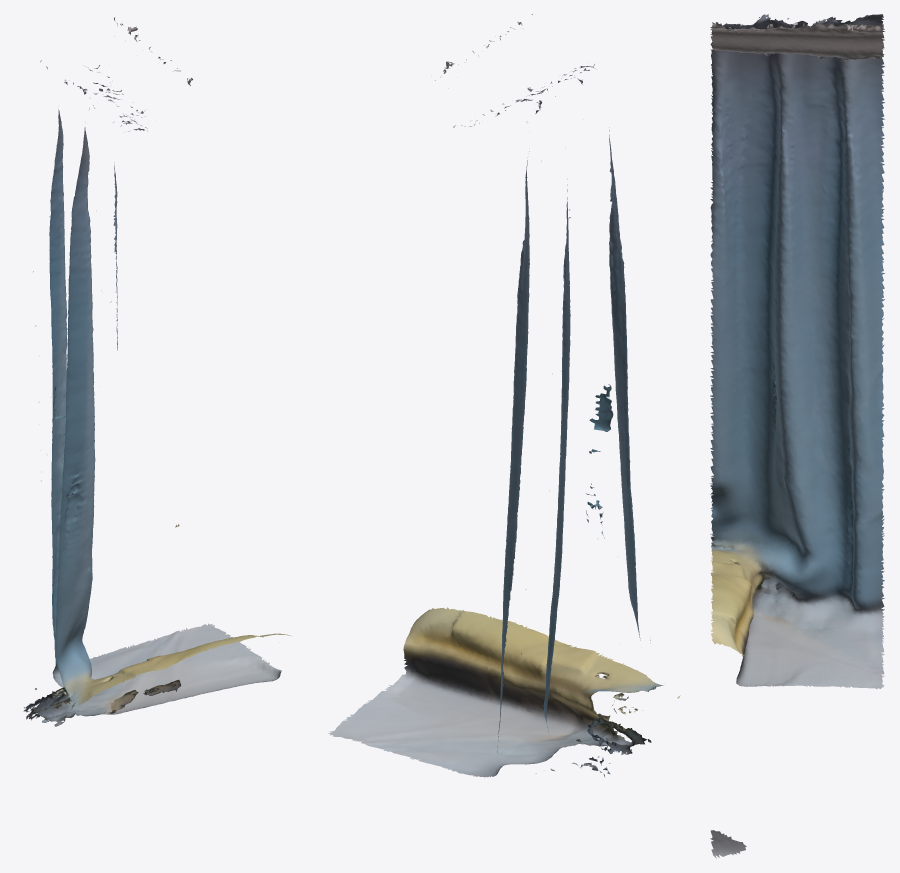
The model's file is apartment-full-2-b773273d0698.glb.
The picture shows the model from 3 angles, left to right: view 1: azimuth 30°, elevation 25°; view 2: azimuth 150°, elevation 25°; view 3: azimuth 270°, elevation 25°; orthographic projection. The views are drawn at different scales.
Size of the model in its own units: 0.738 by 2.33 by 0.471.
